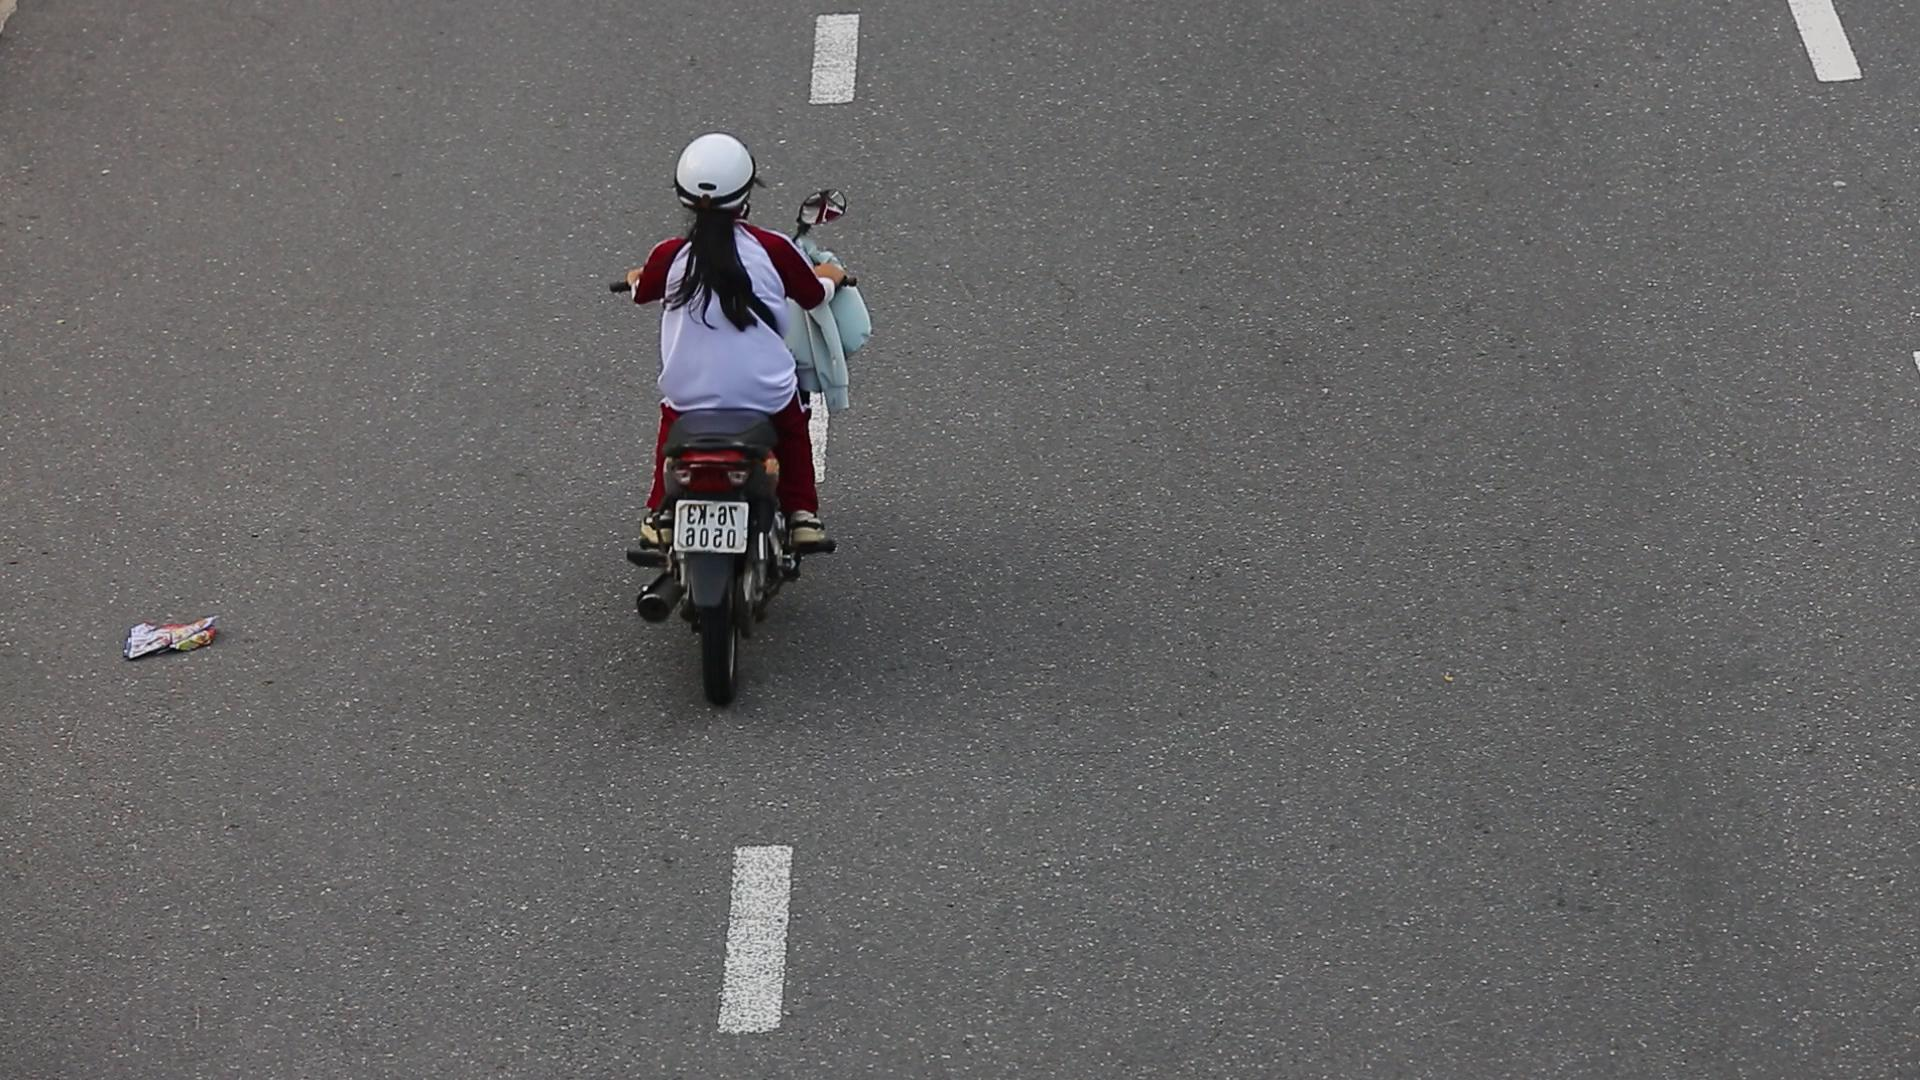motobike: (589, 121, 857, 725)
